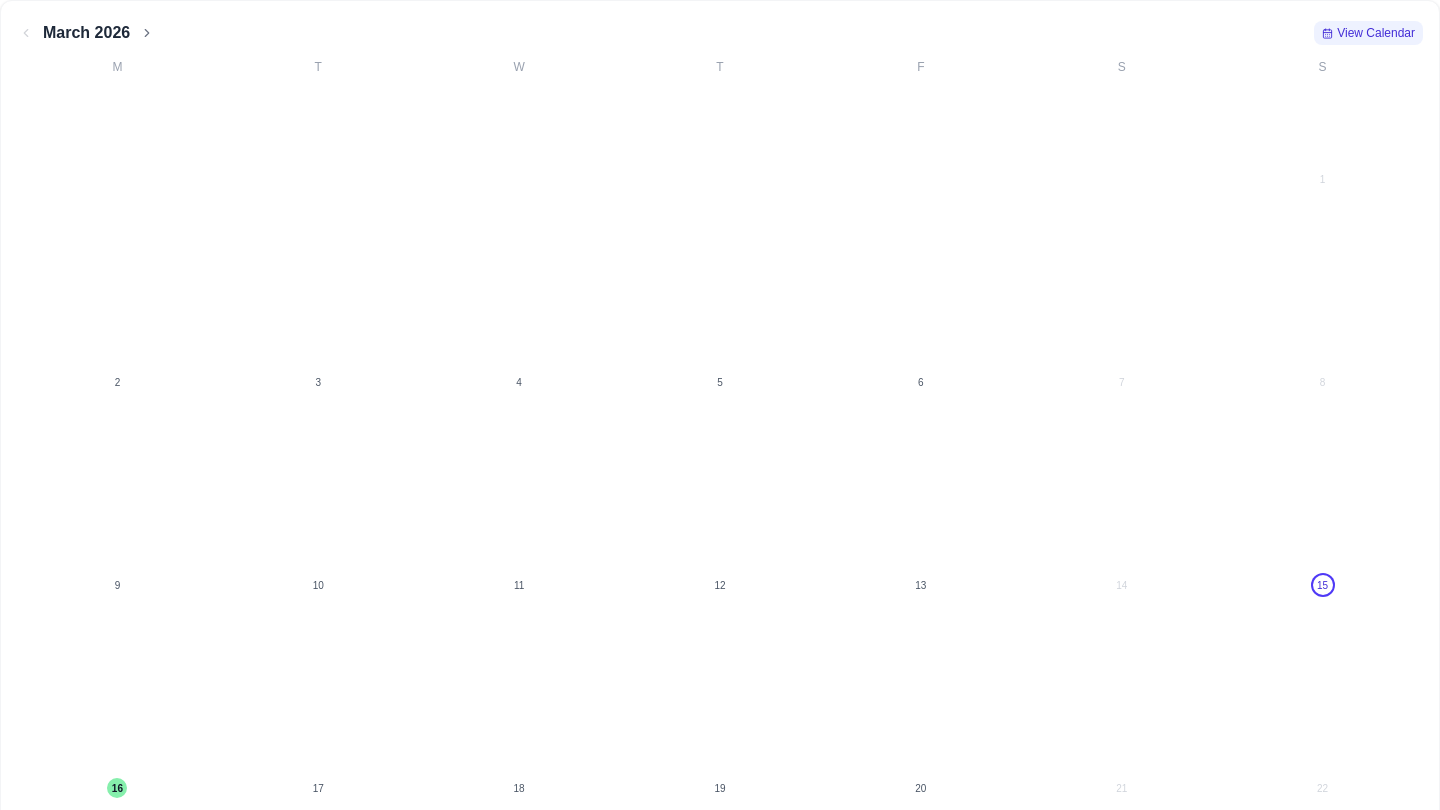
MiniCalendar — popover matches CalendarView style › popover shows a status badge
Click the text with test id "leave-dot".
click(117, 788)  # box [107,778,127,798]
(page scrolled)
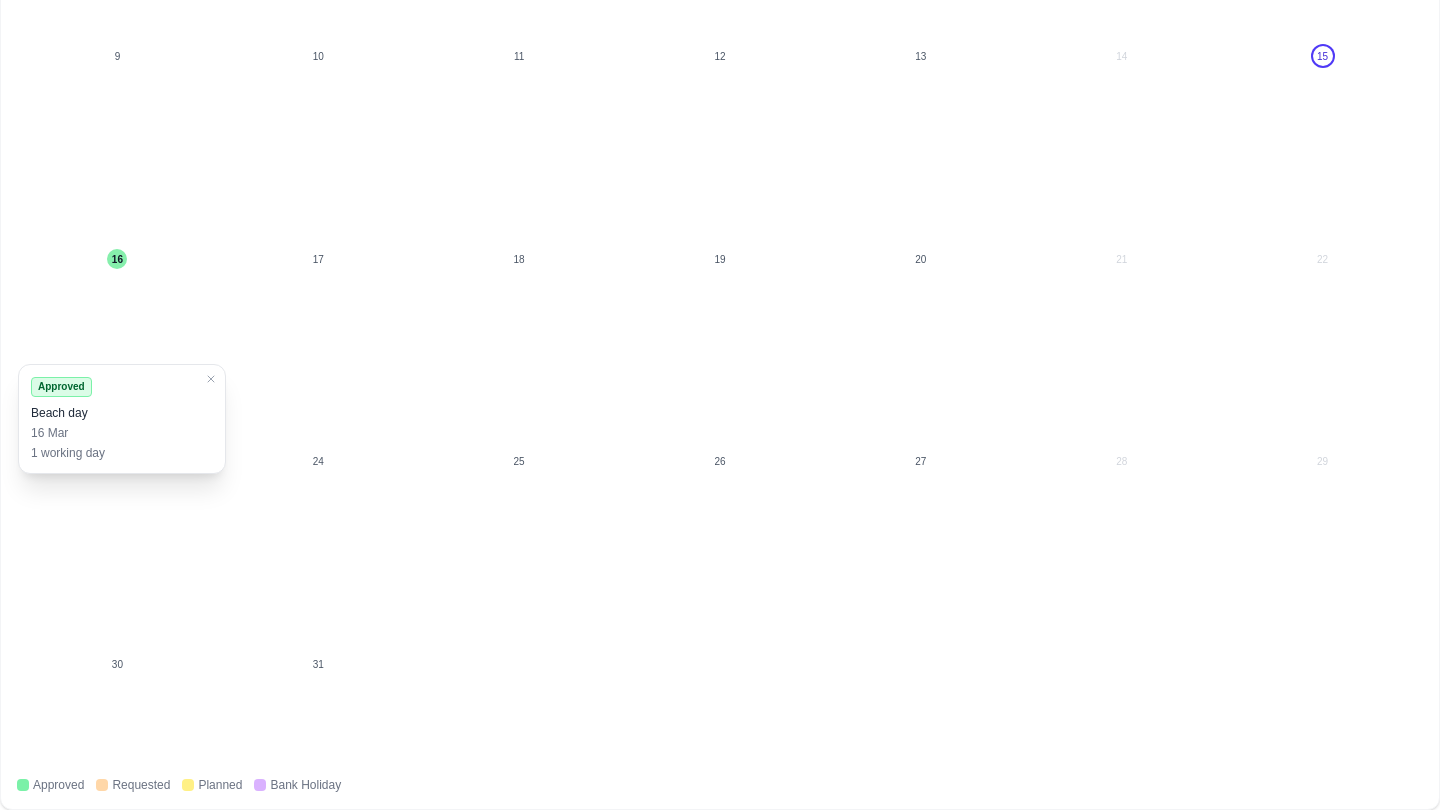
Now the tooltip shows "Approved", box [38,381,85,392]
